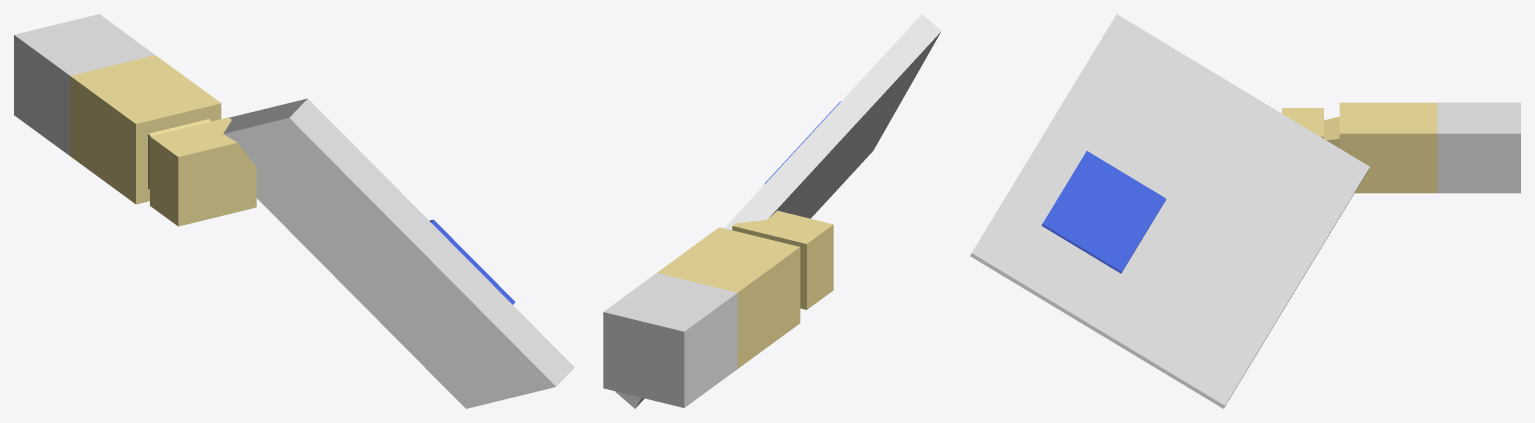
File: mine_gun.obj
The picture shows the model from 3 angles, left to right: view 1: azimuth 30°, elevation 25°; view 2: azimuth 150°, elevation 25°; view 3: azimuth 270°, elevation 25°; orthographic projection. The views are drawn at different scales.
Visible parts, largest first — view 1: cube1, cube5; view 2: cube5, cube1; view 3: cube1, cube5.
Boxes of the visible parts, x1,y1,x2,y2 form: cube1: (223, 98, 574, 408); cube5: (14, 14, 256, 226); cube5: (603, 210, 833, 407); cube1: (615, 14, 941, 408); cube1: (970, 14, 1369, 408); cube5: (1282, 102, 1520, 193).
Bounding box in the file's own units: 25.46 × 37.57 × 60.19.
Materials: 3 (3 with a texture image).
